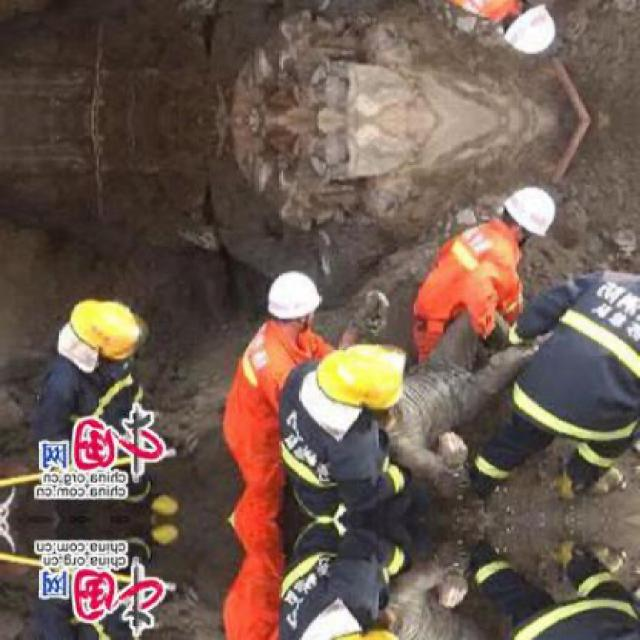helmet: (302, 345, 408, 421), (62, 296, 140, 367), (492, 182, 562, 248), (492, 0, 563, 60), (265, 267, 320, 338), (302, 620, 409, 638)
